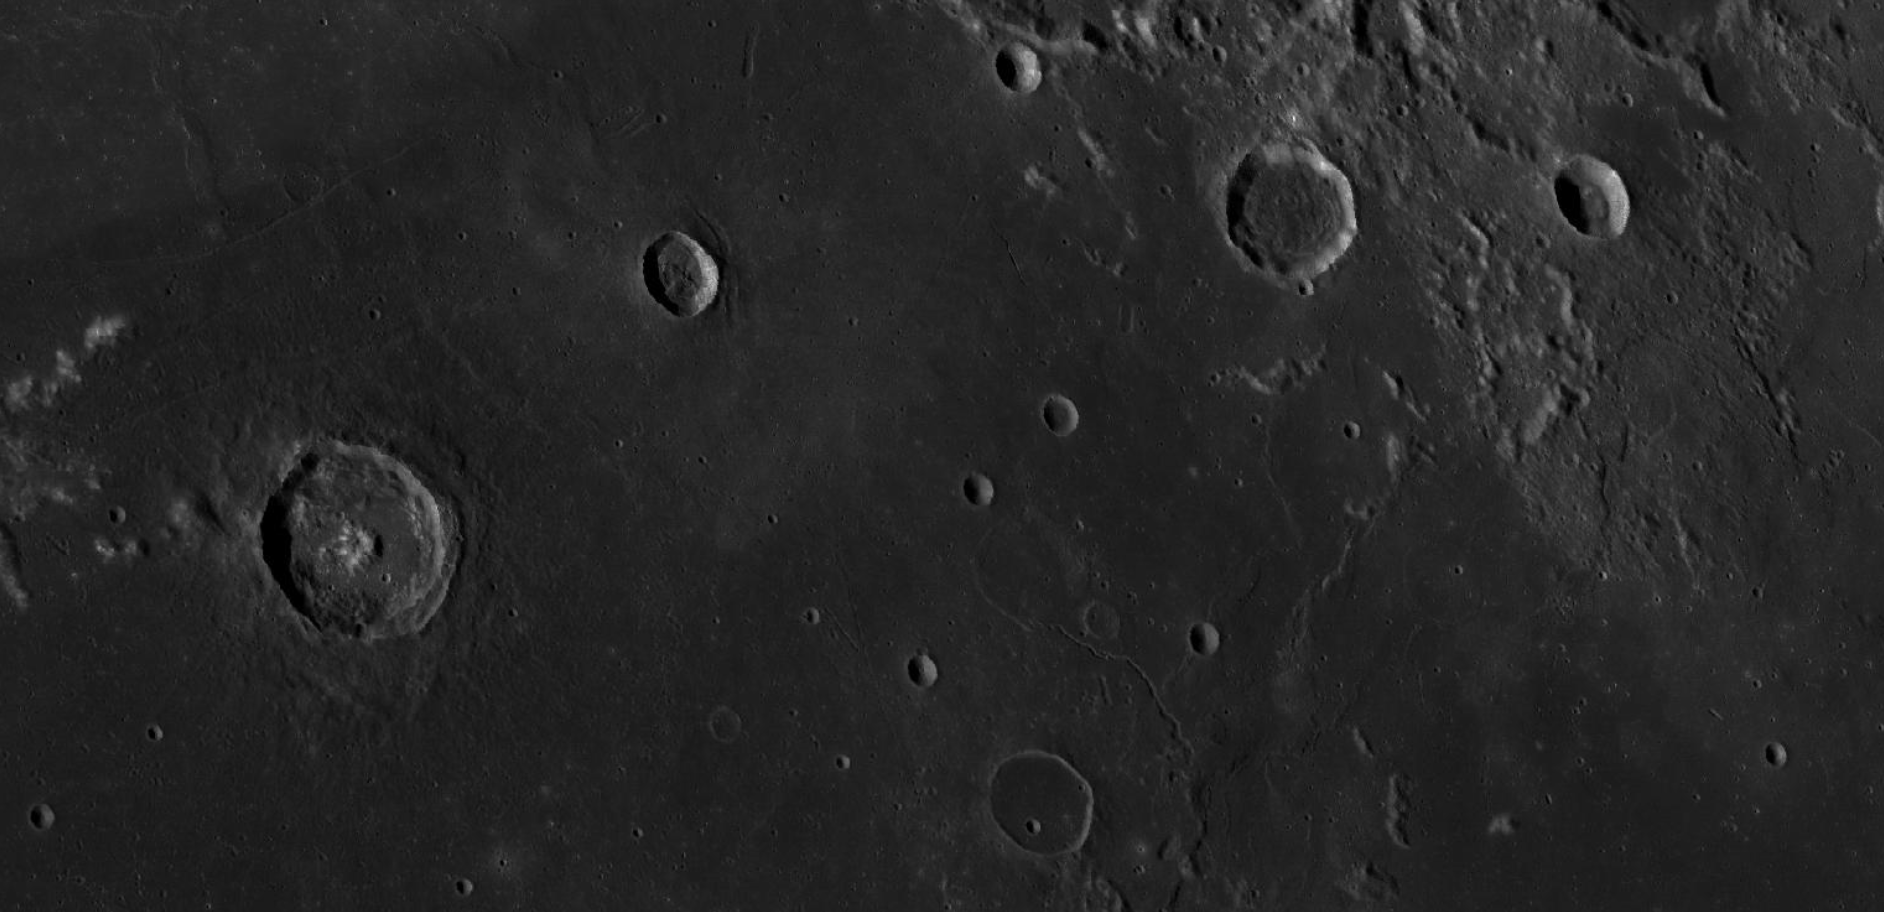crater: (186, 376, 554, 707), (1188, 120, 1387, 330), (606, 196, 786, 378), (1525, 107, 1673, 292), (946, 722, 1123, 870), (910, 437, 1024, 566), (861, 620, 986, 731), (1024, 365, 1131, 470), (1179, 589, 1254, 676)
